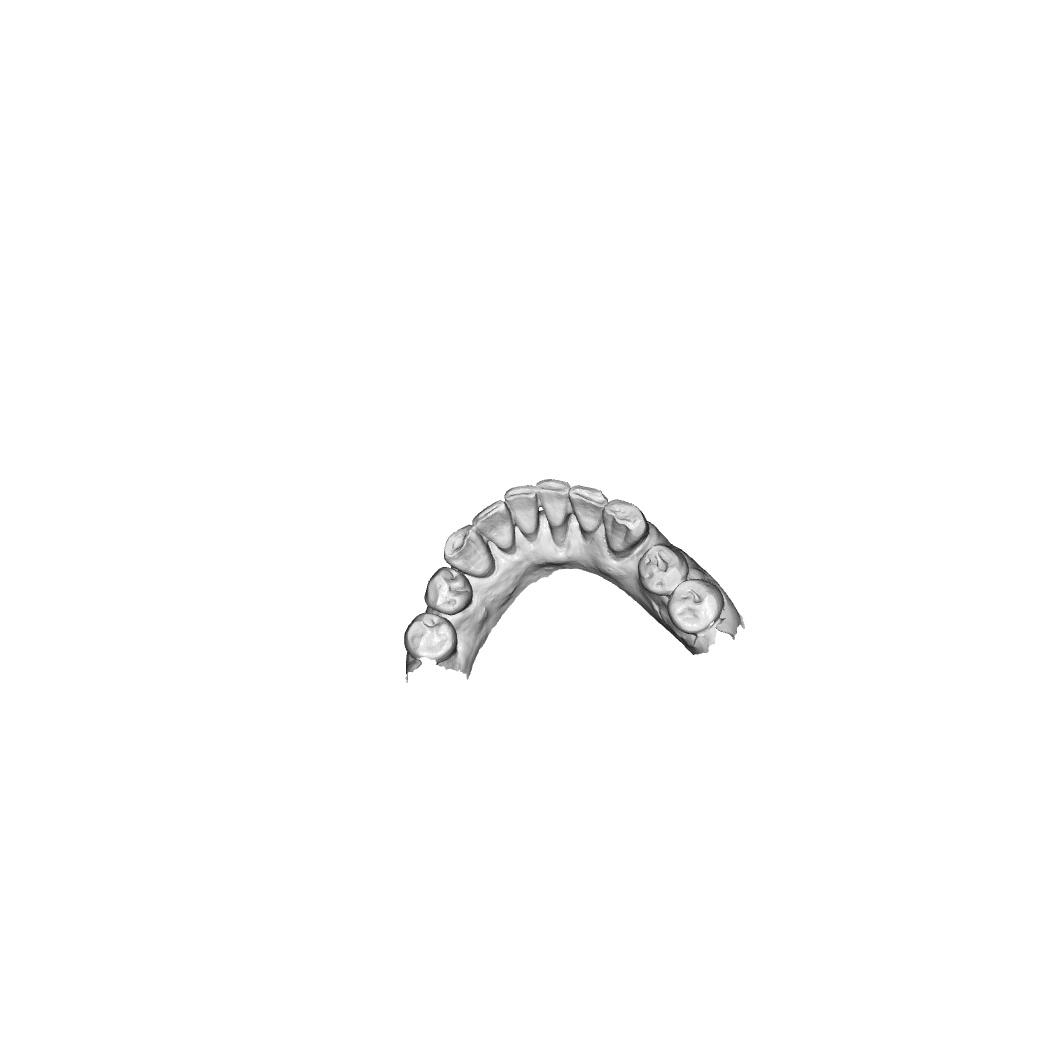canine: (443, 524, 498, 579), (601, 498, 650, 559)
incisor: (471, 499, 516, 555), (567, 484, 609, 543), (535, 477, 572, 543), (503, 485, 540, 543)
premolar: (666, 577, 726, 635), (637, 543, 690, 598), (403, 612, 459, 663), (424, 566, 475, 616)
